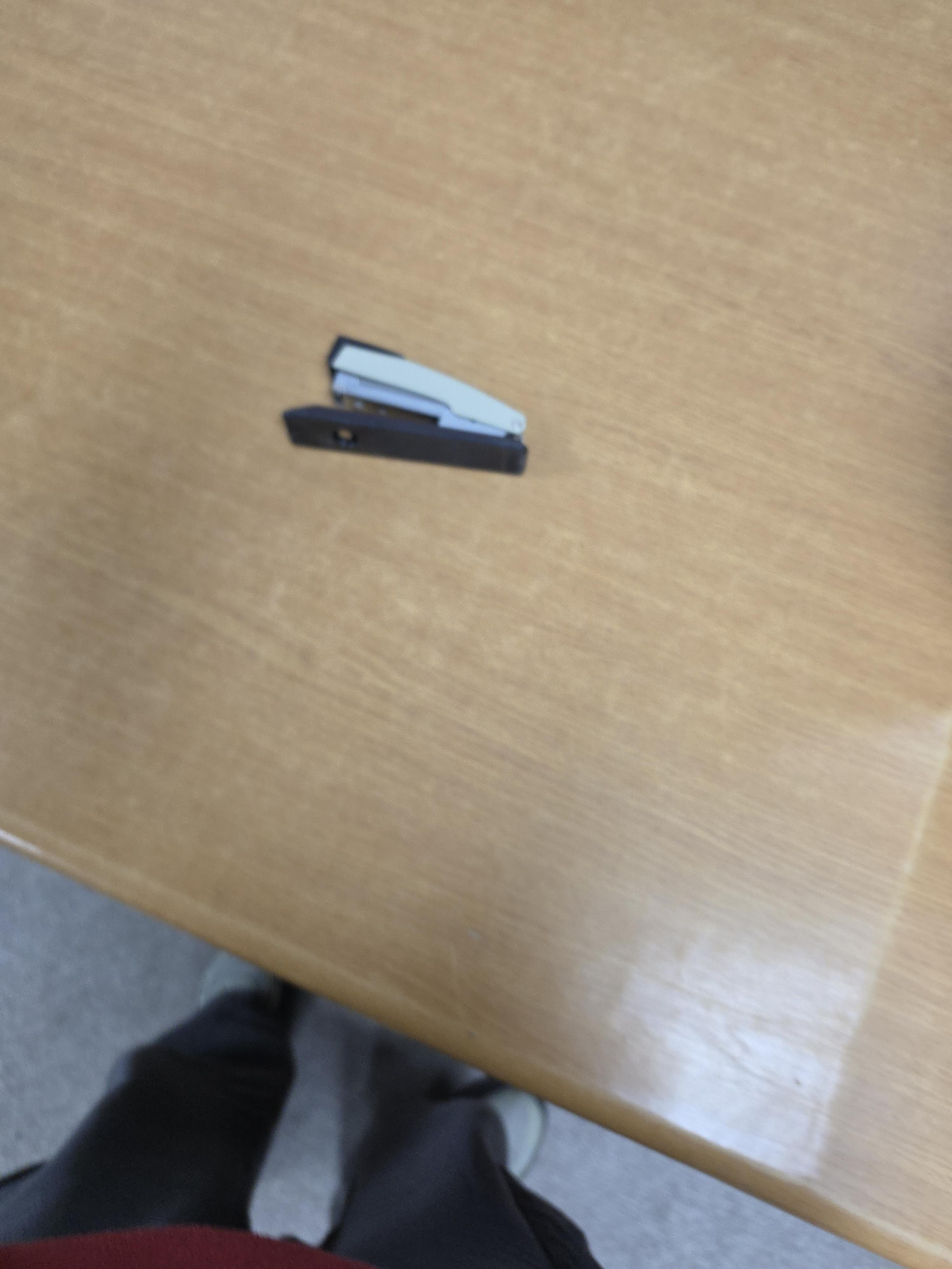stapler: (278, 333, 532, 475)
